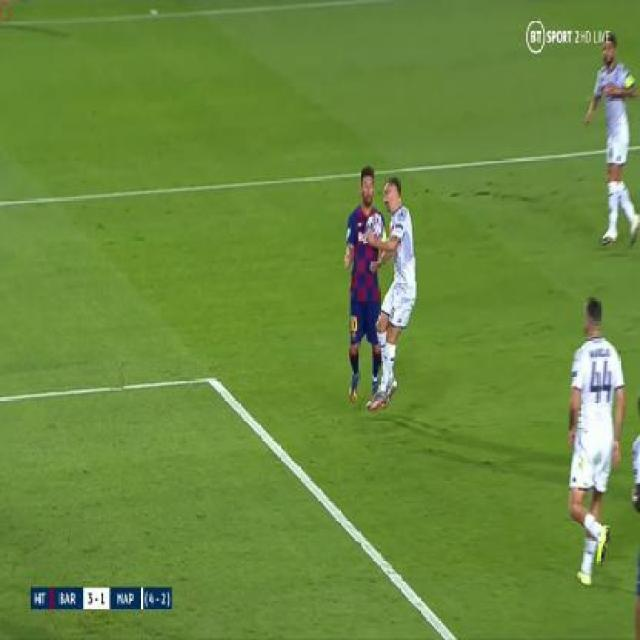ball: (363, 210, 385, 246)
player: (554, 288, 631, 590), (365, 169, 428, 409), (336, 159, 390, 410), (581, 28, 640, 253)
